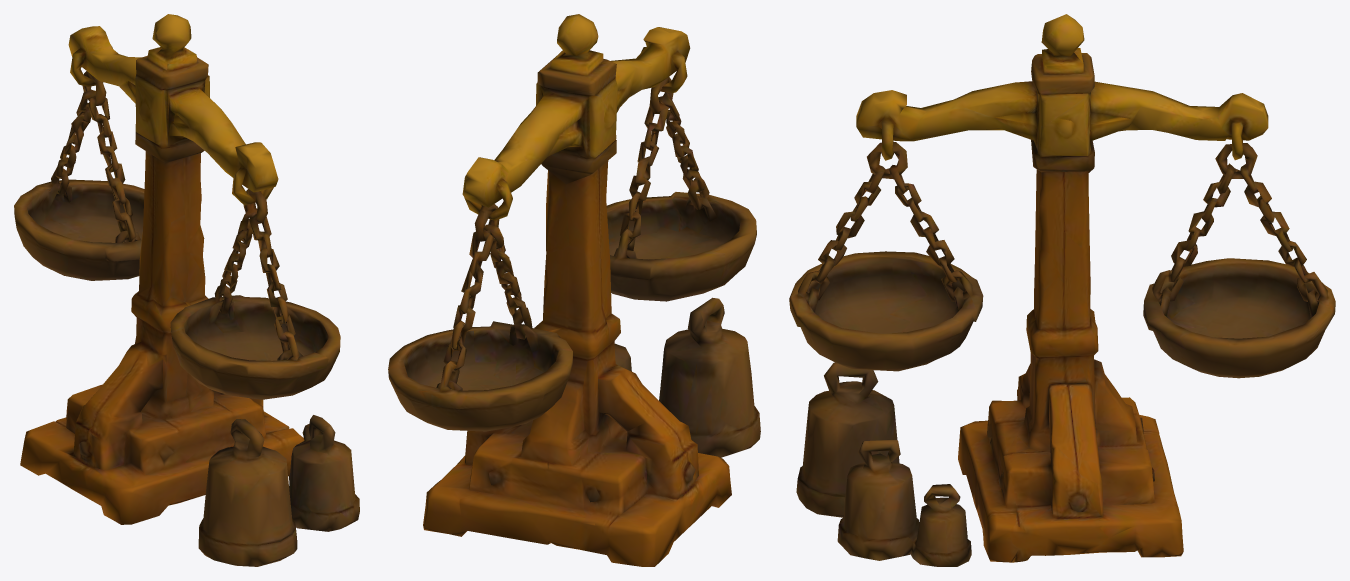
Rendered from model-prop-cargo-scale-01.glb.
3 renders of one model, left to right at view 1: azimuth 30°, elevation 25°; view 2: azimuth 150°, elevation 25°; view 3: azimuth 270°, elevation 25°, orthographic. The views are drawn at different scales.
Parts seen in each view (by area): view 1: tripo_node_2244d986-f001-4b3d-830b-2bb2989a3ade; view 2: tripo_node_2244d986-f001-4b3d-830b-2bb2989a3ade; view 3: tripo_node_2244d986-f001-4b3d-830b-2bb2989a3ade.
Part boxes in pixels (x1=…): tripo_node_2244d986-f001-4b3d-830b-2bb2989a3ade: x1=14, y1=14, x2=359, y2=566; tripo_node_2244d986-f001-4b3d-830b-2bb2989a3ade: x1=388, y1=14, x2=760, y2=566; tripo_node_2244d986-f001-4b3d-830b-2bb2989a3ade: x1=789, y1=14, x2=1335, y2=566.
Bounding box in the file's own units: 0.3307 × 0.65 × 0.6505.
1 material, 1 textured.
